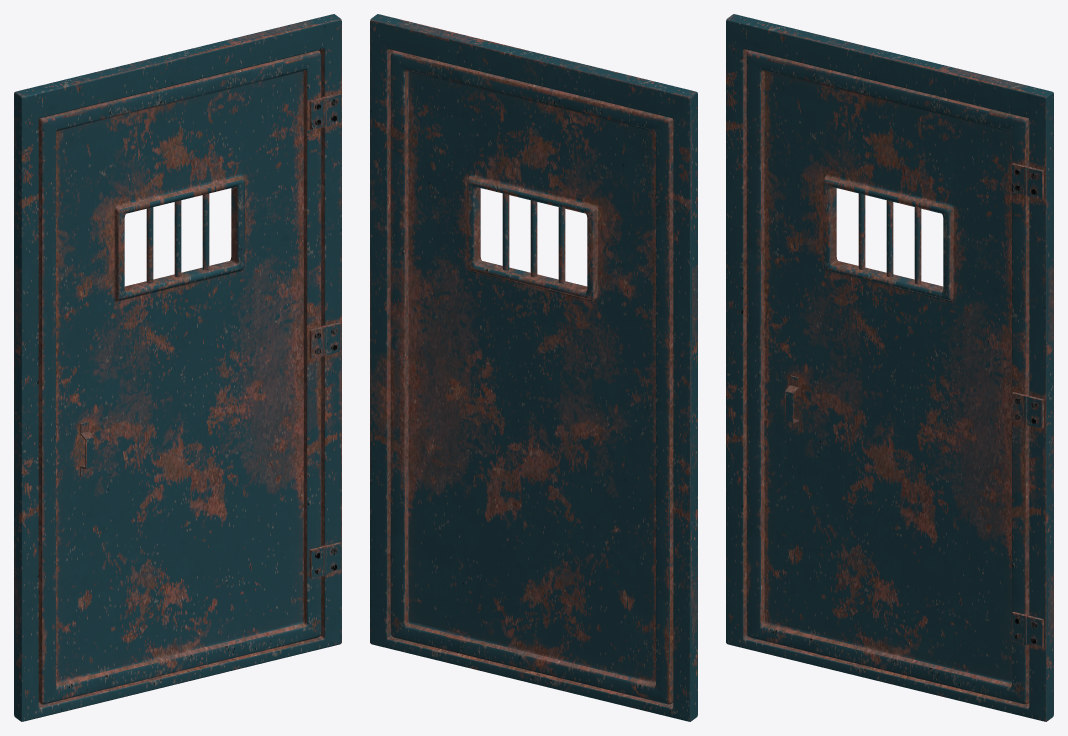
The model's file is prison_door.glb.
3 views of the same model, side by side, from view 1: azimuth 30°, elevation 25°; view 2: azimuth 150°, elevation 25°; view 3: azimuth 330°, elevation 25° (orthographic).
Parts seen in each view (by area): view 1: Plane.006_0; view 2: Plane.006_0; view 3: Plane.006_0.
Boxes of the visible parts, box(x1,y1,x2,y2) form: Plane.006_0: box(14, 14, 341, 721); Plane.006_0: box(370, 14, 697, 721); Plane.006_0: box(726, 14, 1053, 721).
Size of the model in its own units: 1.14 by 2.13 by 0.066.
Materials: 1 (1 with a texture image).
